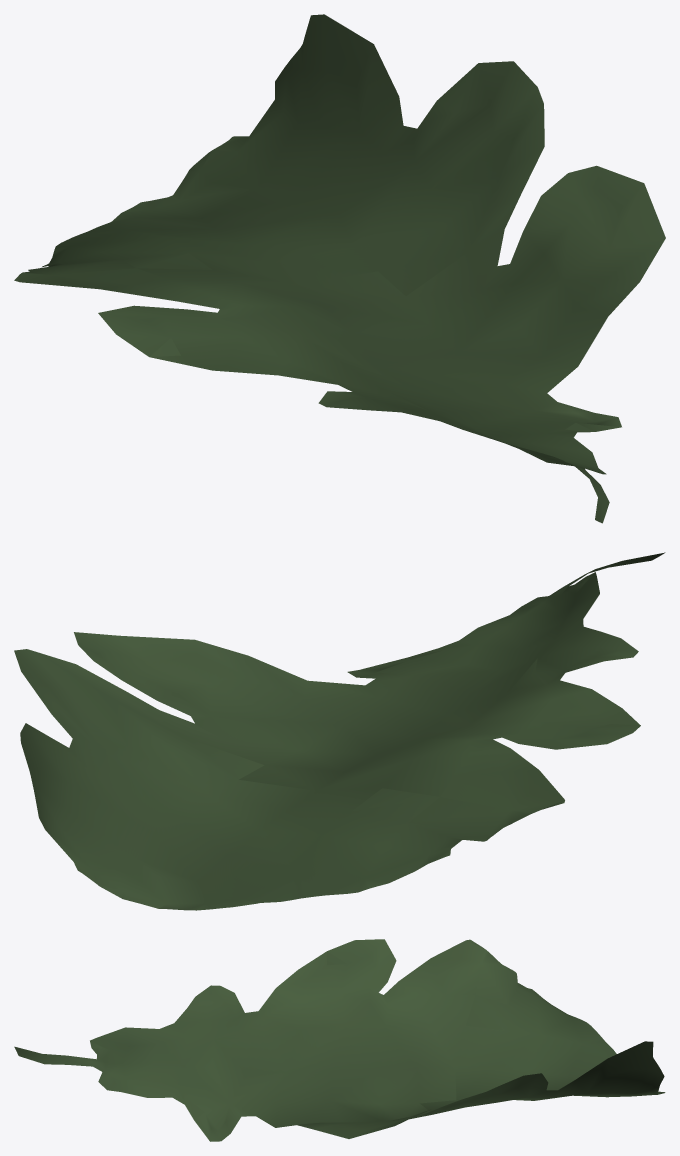
File: trees-leaves-oak-leaf_v1.glb
3 renders of one model, top to bottom at view 1: azimuth 30°, elevation 25°; view 2: azimuth 150°, elevation 25°; view 3: azimuth 270°, elevation 25°, orthographic. The views are drawn at different scales.
Parts seen in each view (by area): view 1: Oak Leaf_v1; view 2: Oak Leaf_v1; view 3: Oak Leaf_v1.
Part boxes in pixels (x1,y1,x2,y2): Oak Leaf_v1: (14, 14, 665, 523); Oak Leaf_v1: (14, 552, 665, 910); Oak Leaf_v1: (14, 939, 665, 1141).
Bounding box in the file's own units: 0.0809 × 0.0223 × 0.12.
